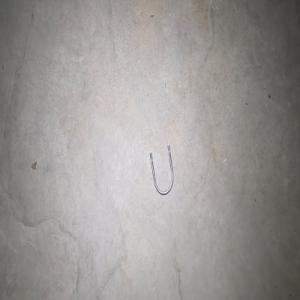ClampPart: (149, 144, 173, 195)
